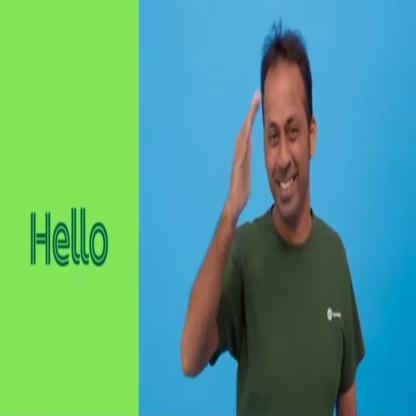Hello: (182, 18, 366, 414)
